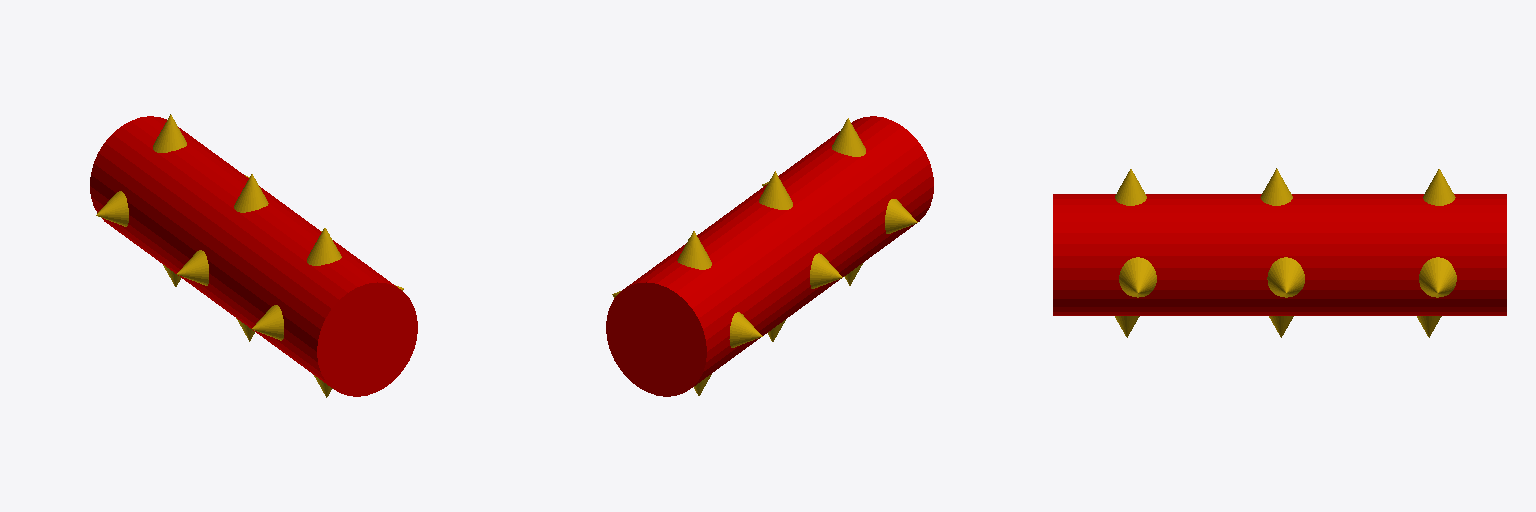
The model's file is yatdik.obj.
The picture shows the model from 3 angles: view 1: azimuth 30°, elevation 25°; view 2: azimuth 150°, elevation 25°; view 3: azimuth 270°, elevation 25°; orthographic projection.
Visible parts, largest first — view 1: Cone.003_Cone.006; view 2: Cone.003_Cone.006; view 3: Cone.003_Cone.006.
Boxes of the visible parts, box(x1,y1,x2,y2) form: Cone.003_Cone.006: box(90, 114, 417, 397); Cone.003_Cone.006: box(606, 116, 933, 396); Cone.003_Cone.006: box(1053, 168, 1506, 337).
Bounding box in the file's own units: 2.74 × 2.88 × 6.95.